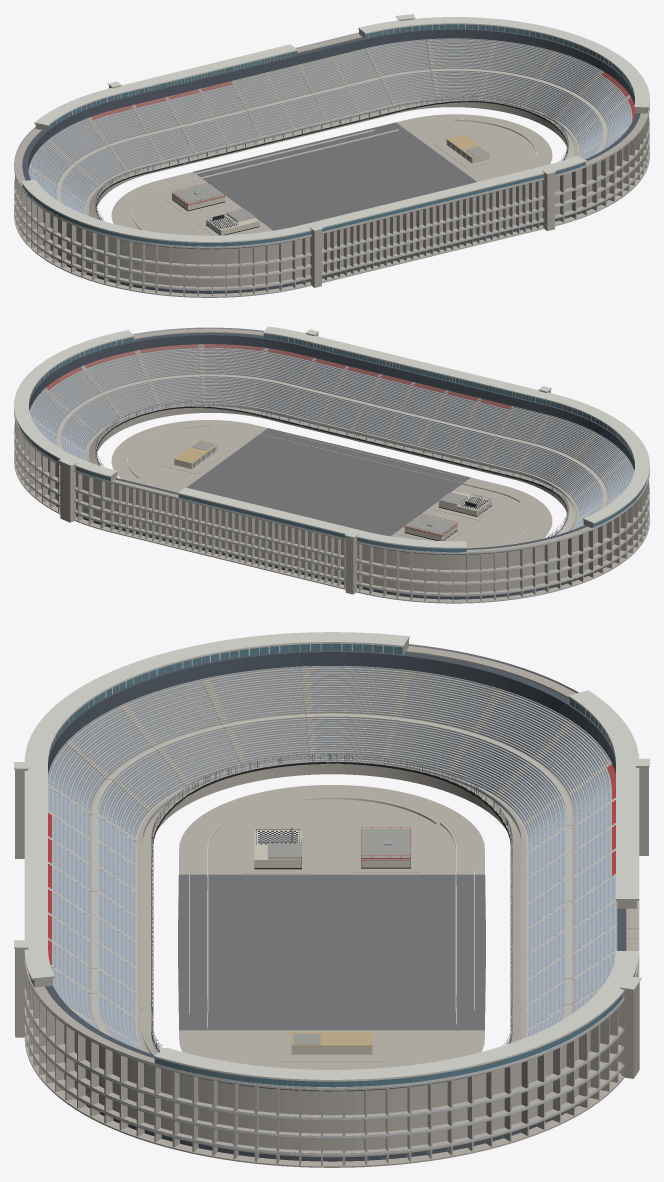
The model's file is BristolGrandstands.fbx.
3 renders of one model, top to bottom at view 1: azimuth 30°, elevation 25°; view 2: azimuth 150°, elevation 25°; view 3: azimuth 270°, elevation 25°, orthographic. The views are drawn at different scales.
Parts seen in each view (by area): view 1: Central infield • asphalt, Turns 1–2 infield • concrete, Turns 3–4 infield • concrete, Seating section 15, Seating section 14, Seating section 16, Concrete connection • wall to grandstands, Concourse and facade 30, Seating section 13, Concourse and facade 31, Concourse and facade 32, Concourse and facade 29 (+62 smaller); view 2: Central infield • asphalt, Turns 1–2 infield • concrete, Turns 3–4 infield • concrete, Seating section 09, Seating section 10, Concrete connection • wall to grandstands, Concourse and facade 16, Seating section 11, Concourse and facade 25, Seating section 32, Seating section 08, Concourse and facade 24 (+60 smaller); view 3: Central infield • asphalt, Turns 3–4 infield • concrete, Seating section 28, Seating section 29, Concrete connection • wall to grandstands, Seating section 27, Turns 1–2 infield • concrete, Seating section 30, Concourse and facade 11, Concourse and facade 13, Seating section 26, Concourse and facade 14 (+63 smaller).
Boxes of the visible parts, left/top/right/bottom form: Central infield • asphalt: left=193, top=122, right=476, bottom=230; Turns 1–2 infield • concrete: left=396, top=114, right=552, bottom=181; Turns 3–4 infield • concrete: left=111, top=172, right=272, bottom=235; Seating section 15: left=426, top=38, right=491, bottom=98; Seating section 14: left=480, top=40, right=552, bottom=106; Seating section 16: left=365, top=39, right=434, bottom=104; Concrete connection • wall to grandstands: left=89, top=100, right=574, bottom=219; Concourse and facade 30: left=103, top=223, right=172, bottom=295; Seating section 13: left=522, top=51, right=600, bottom=119; Concourse and facade 31: left=169, top=234, right=240, bottom=297; Concourse and facade 32: left=238, top=225, right=305, bottom=296; Concourse and facade 29: left=52, top=204, right=111, bottom=284; Central infield • asphalt: left=187, top=428, right=470, bottom=536; Turns 1–2 infield • concrete: left=111, top=420, right=267, bottom=492; Turns 3–4 infield • concrete: left=391, top=477, right=552, bottom=548; Seating section 09: left=198, top=344, right=263, bottom=405; Seating section 10: left=134, top=344, right=201, bottom=408; Concrete connection • wall to grandstands: left=89, top=405, right=574, bottom=534; Concourse and facade 16: left=57, top=453, right=117, bottom=531; Seating section 11: left=80, top=351, right=157, bottom=419; Concourse and facade 25: left=396, top=538, right=466, bottom=603; Seating section 32: left=517, top=414, right=595, bottom=482; Seating section 08: left=246, top=347, right=312, bottom=413; Concourse and facade 24: left=343, top=528, right=400, bottom=599; Central infield • asphalt: left=178, top=874, right=485, bottom=1030; Turns 3–4 infield • concrete: left=179, top=785, right=484, bottom=874; Seating section 28: left=300, top=666, right=403, bottom=762; Seating section 29: left=201, top=666, right=310, bottom=768; Concrete connection • wall to grandstands: left=142, top=764, right=521, bottom=1054; Seating section 27: left=381, top=669, right=497, bottom=774; Turns 1–2 infield • concrete: left=179, top=1030, right=484, bottom=1069; Seating section 30: left=120, top=679, right=242, bottom=786; Concourse and facade 11: left=153, top=1047, right=260, bottom=1163; Concourse and facade 13: left=363, top=1056, right=472, bottom=1166; Seating section 26: left=445, top=688, right=569, bottom=796; Concourse and facade 14: left=462, top=1030, right=560, bottom=1153.
Size of the model in its own units: 47174 by 4471 by 28312.
